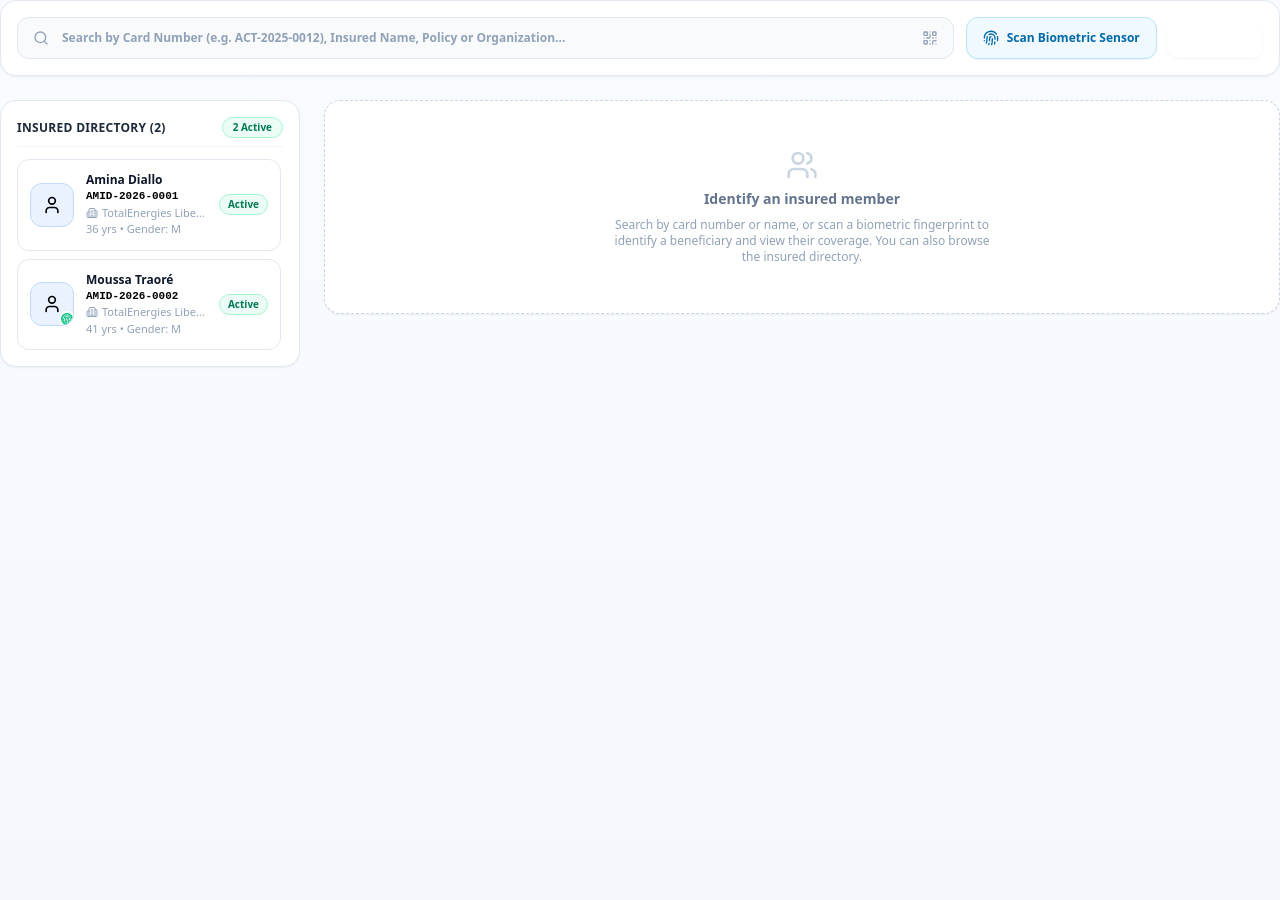
Test case: AgentIdentificationView — scan biométrique honnête (pas de faux "match") › ne sélectionne aucun assuré après un scan biométrique et prévient que ce n'est pas disponible
Click the button "Scan Biometric Sensor".
click(1061, 38)  # box [966, 17, 1157, 59]
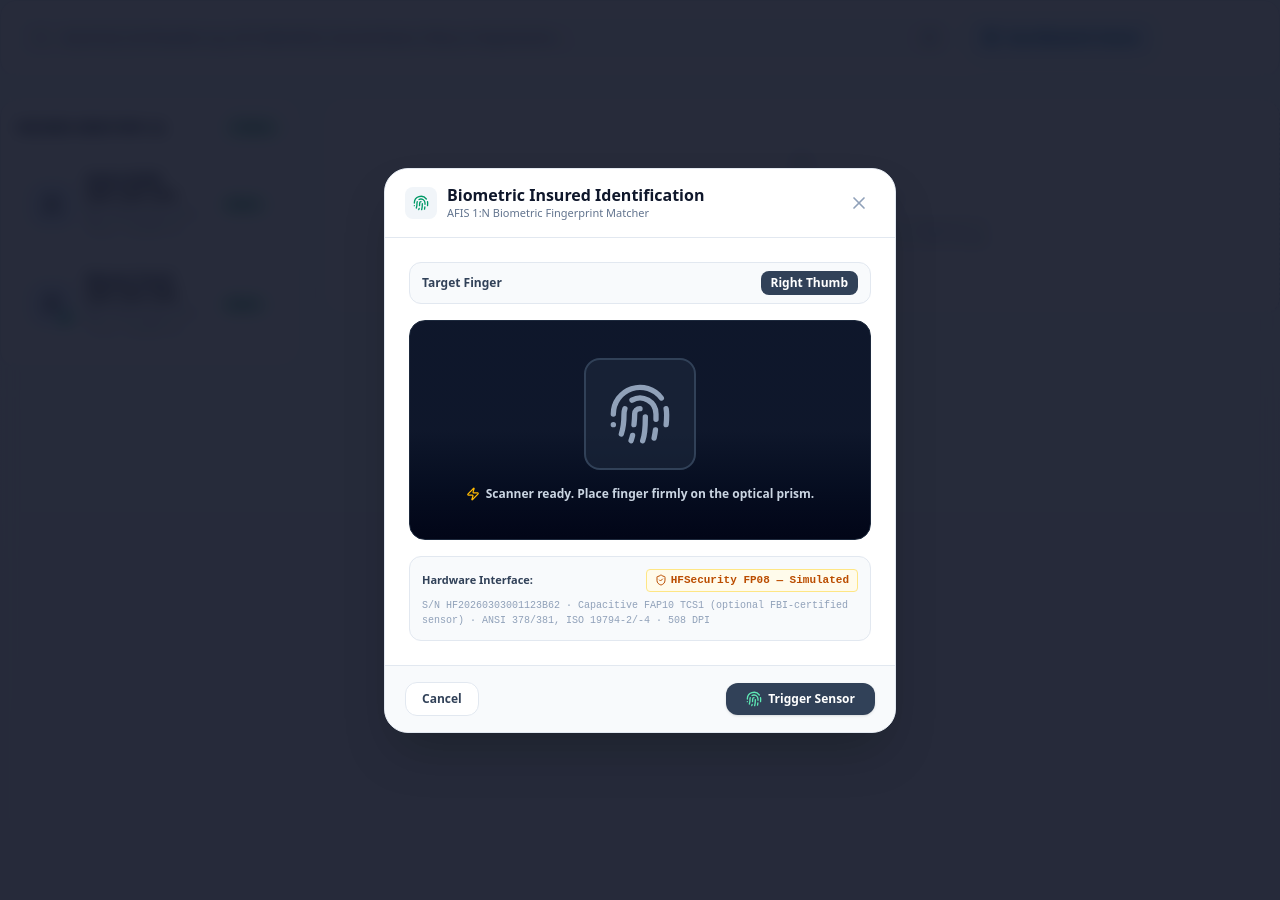
Click the button "Trigger Sensor".
click(801, 698)  # box [726, 682, 875, 714]
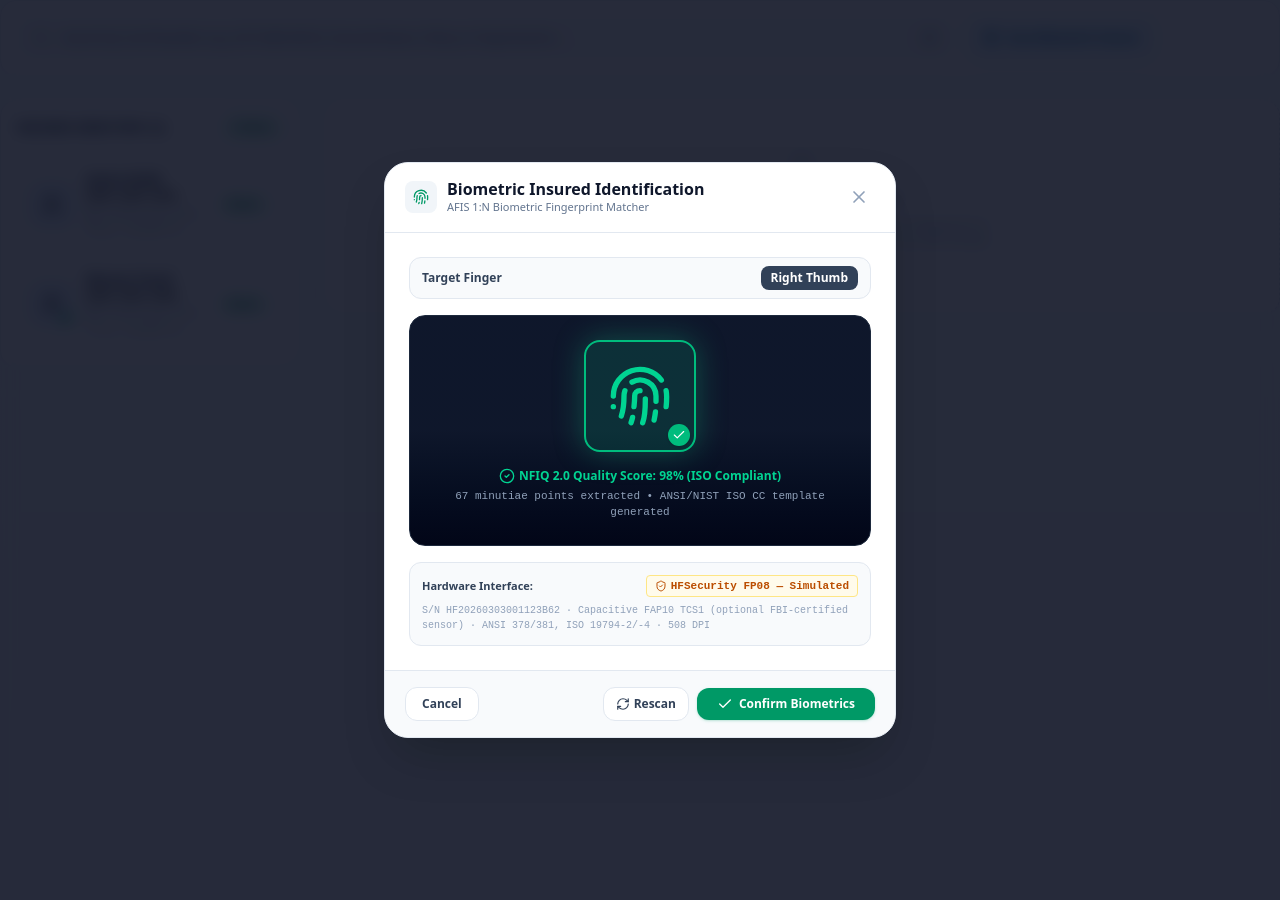
Result: the text "Confirm Biometrics" is shown at [739, 696, 855, 712]
Click the button "Confirm Biometrics".
click(786, 704)  # box [697, 688, 875, 720]
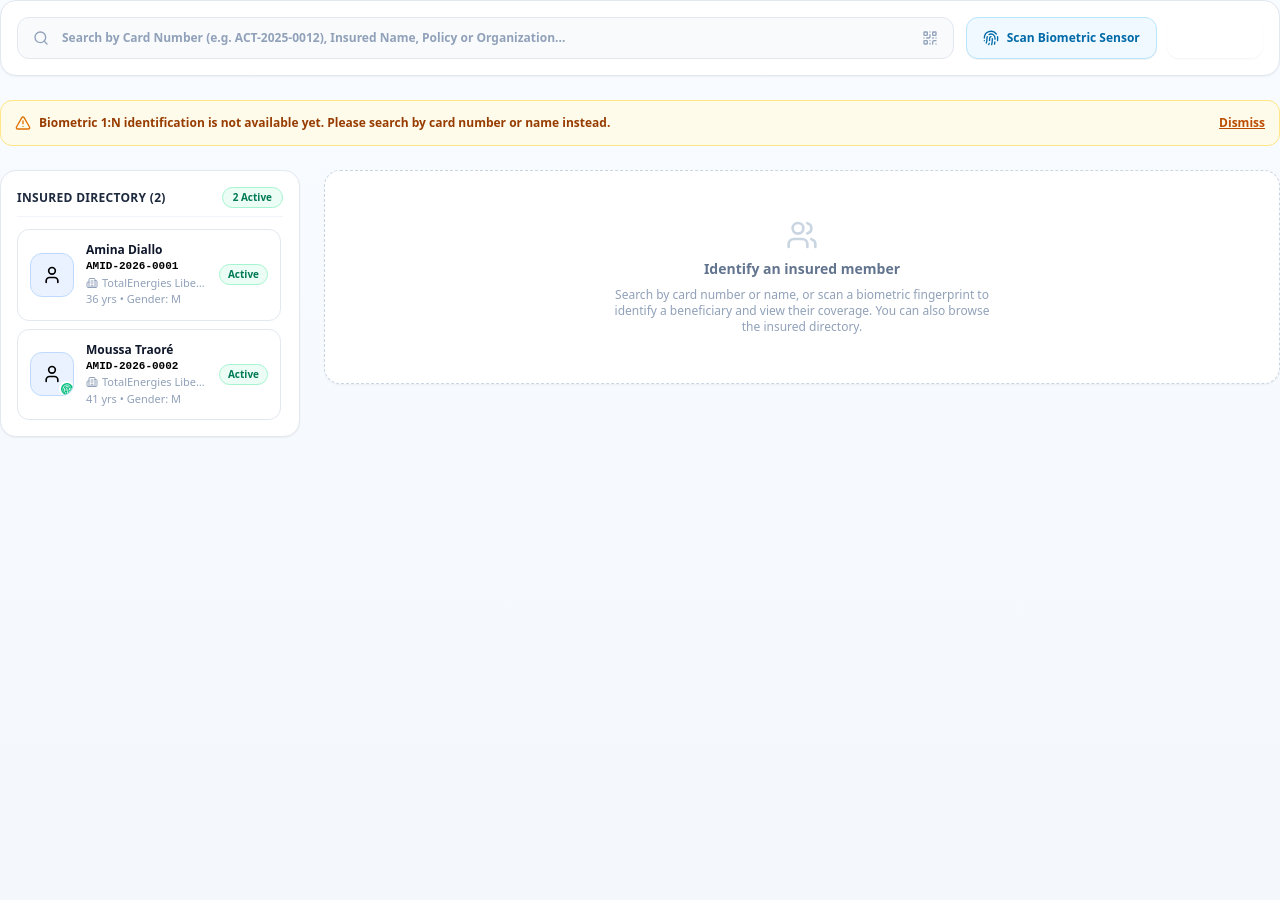
Expected: the text "Identify an insured member" is shown, [704, 259, 900, 279]
Result: the text "Biometric 1:N identification is not available yet. Please search by card number or name instead." is shown at [39, 114, 610, 131]
